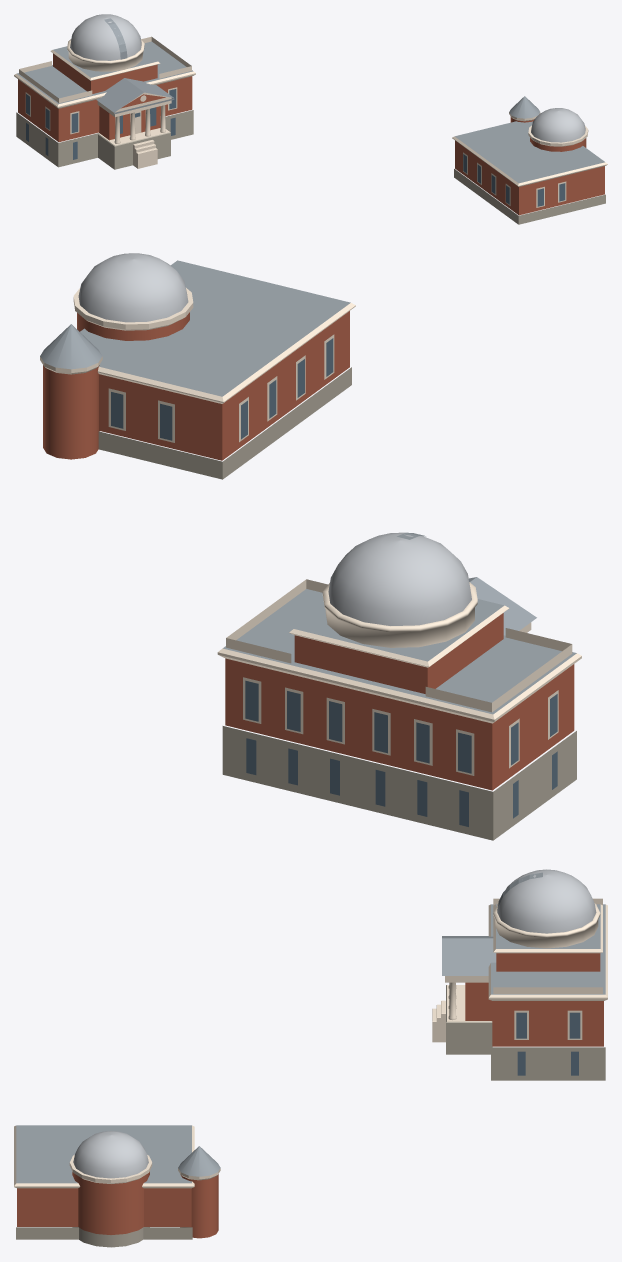
File: cin-observatory.glb
The picture shows the model from 3 angles, top to bottom: view 1: azimuth 30°, elevation 25°; view 2: azimuth 150°, elevation 25°; view 3: azimuth 270°, elevation 25°; orthographic projection. The views are drawn at different scales.
Parts seen in each view (by area): view 1: Cincinnati Observatory; view 2: Cincinnati Observatory; view 3: Cincinnati Observatory.
Boxes of the visible parts, left/top/right/bottom form: Cincinnati Observatory: left=14, top=14, right=607, bottom=224; Cincinnati Observatory: left=40, top=253, right=581, bottom=840; Cincinnati Observatory: left=14, top=869, right=607, bottom=1247.
Bounding box in the file's own units: 63.15 × 18.31 × 61.2.
